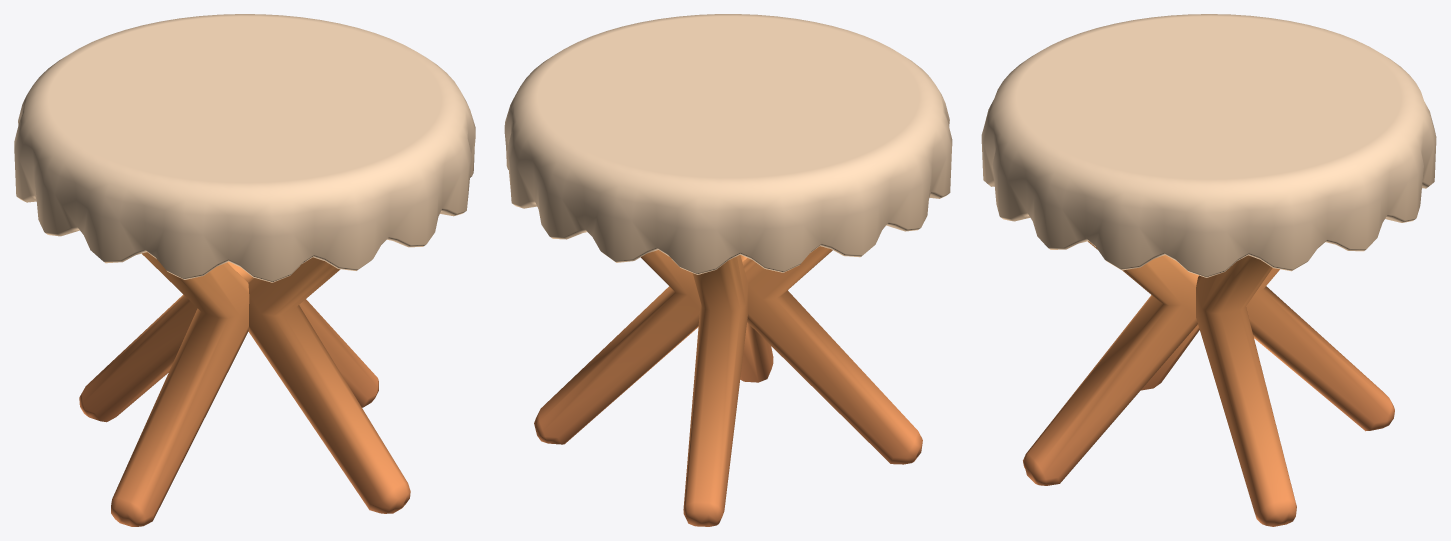
The model's file is Kitchen_Table_002.fbx.
3 views of the same model, side by side, from view 1: azimuth 30°, elevation 25°; view 2: azimuth 150°, elevation 25°; view 3: azimuth 270°, elevation 25° (orthographic). The views are drawn at different scales.
Visible parts, largest first — view 1: Kitchen_Table_002; view 2: Kitchen_Table_002; view 3: Kitchen_Table_002.
Boxes of the visible parts, left/top/right/bottom form: Kitchen_Table_002: left=14, top=14, right=475, bottom=526; Kitchen_Table_002: left=504, top=14, right=952, bottom=526; Kitchen_Table_002: left=981, top=14, right=1436, bottom=526.
Bounding box in the file's own units: 0.8672 × 0.7498 × 0.8671.
